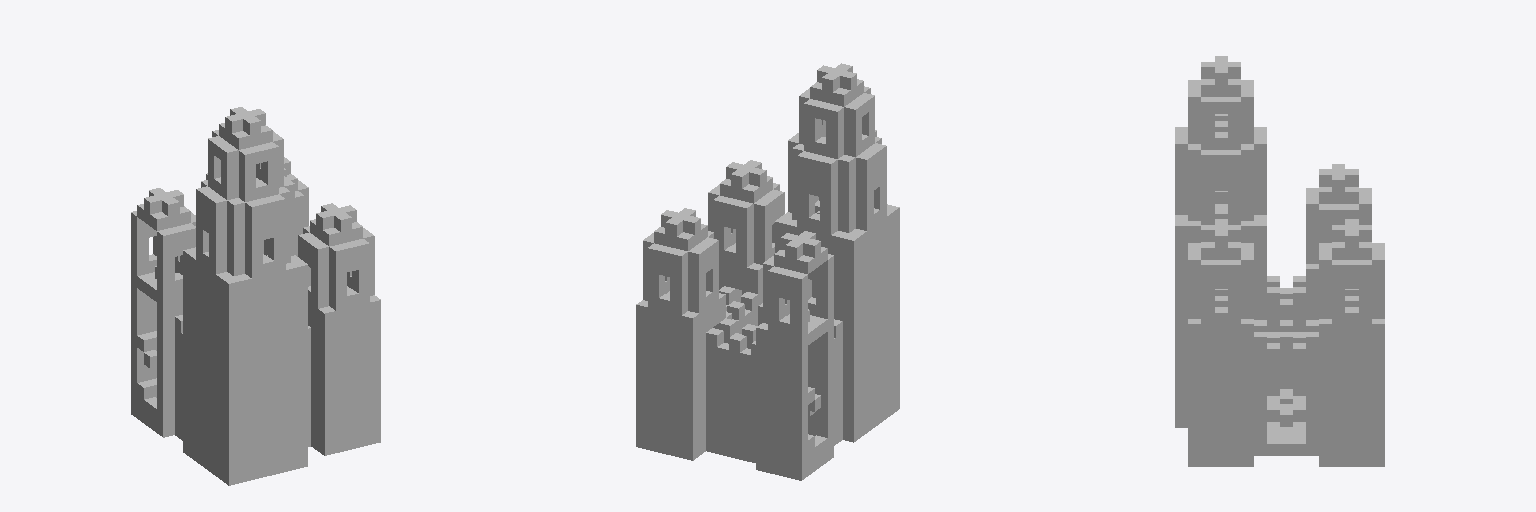
The model's file is mesh_fort_gondor.obj.
The picture shows the model from 3 angles: view 1: azimuth 30°, elevation 25°; view 2: azimuth 150°, elevation 25°; view 3: azimuth 270°, elevation 25°; orthographic projection.
Size of the model in its own units: 0.4375 by 0.9062 by 0.5.